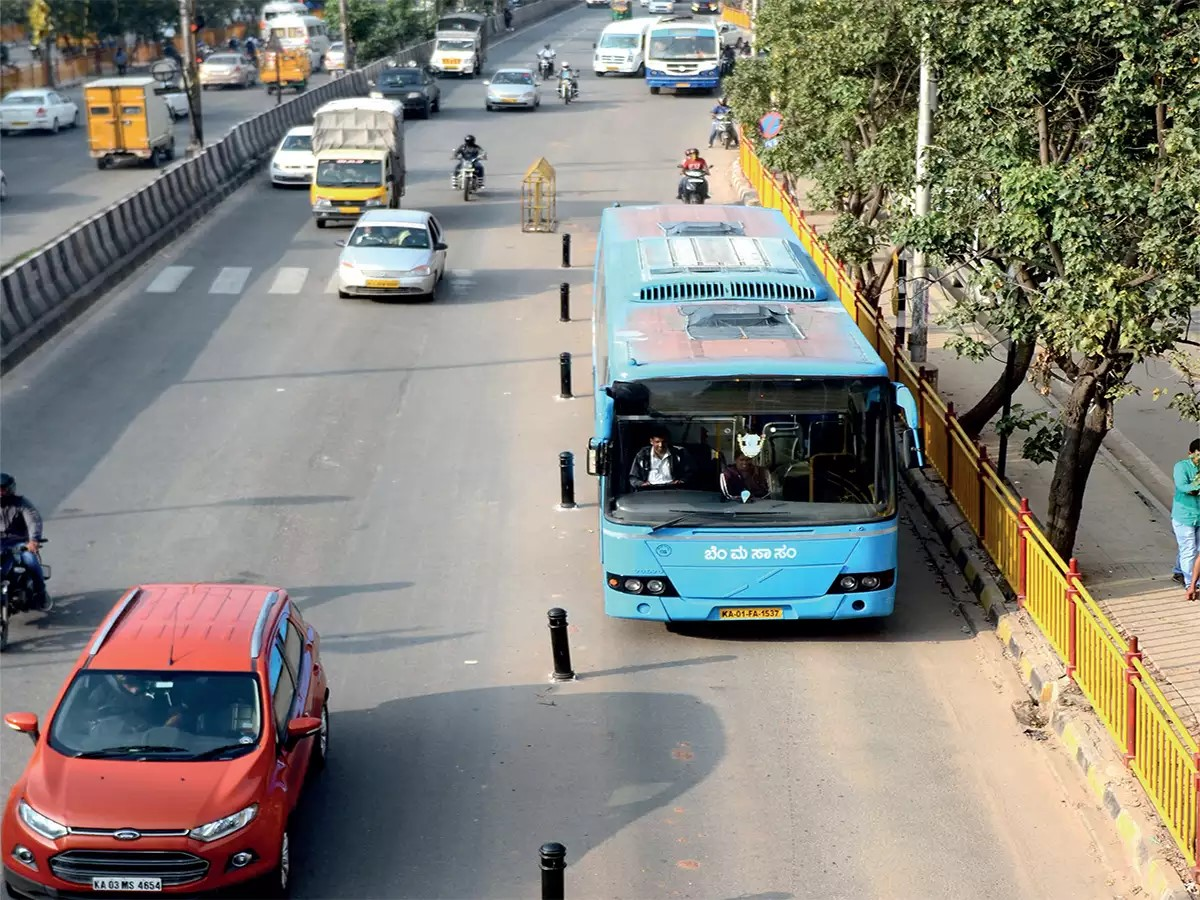HeavyVehicle: (594, 204, 906, 632), (312, 97, 403, 211), (85, 75, 178, 162), (644, 20, 725, 93)
LightVehicle: (6, 587, 336, 890), (338, 215, 450, 303), (1, 83, 82, 137), (483, 71, 540, 113)
MotorCycle: (449, 150, 487, 204), (675, 159, 714, 203), (554, 69, 580, 109)
